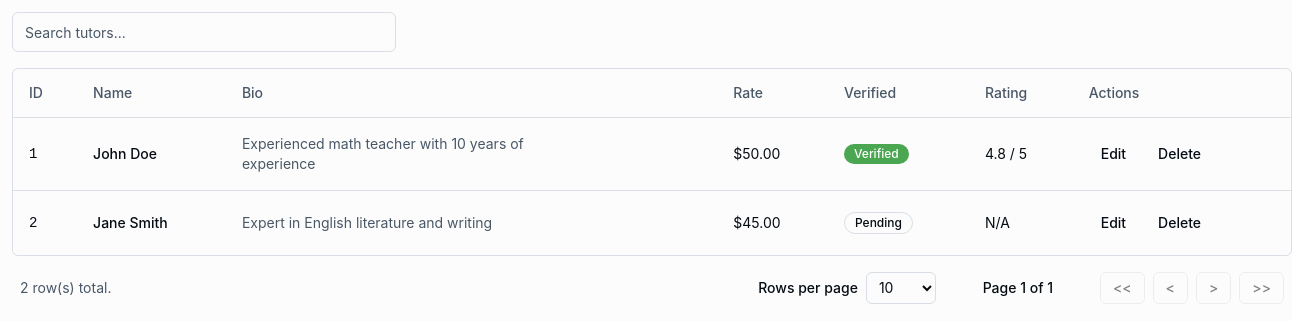
it: TutorsTable › search functionality › filters tutors by name
Step 1. Type "John" into the field with placeholder "Search tutors..." → x=204, y=32, box [12,12,396,52]
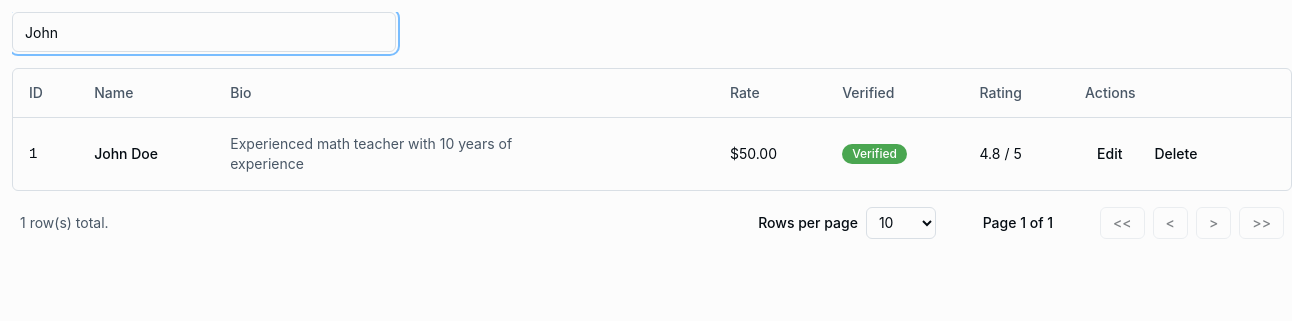
Expected: the text "John Doe" is shown, [94,144,158,162]
Expected: the text "Jane Smith" is gone
